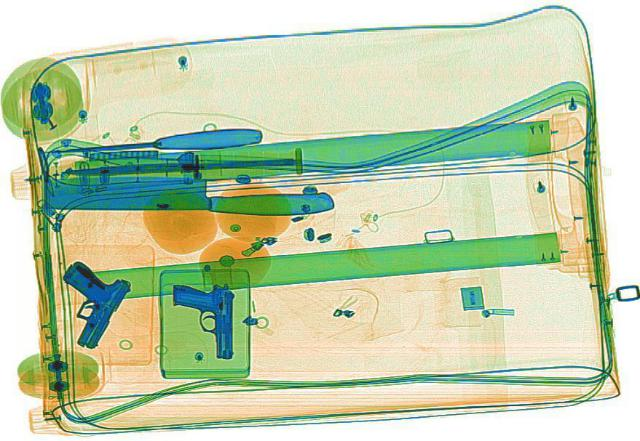Gun: (26, 257, 140, 348), (168, 282, 236, 358)
Knife: (42, 175, 334, 215), (40, 126, 262, 158), (65, 156, 295, 175)
